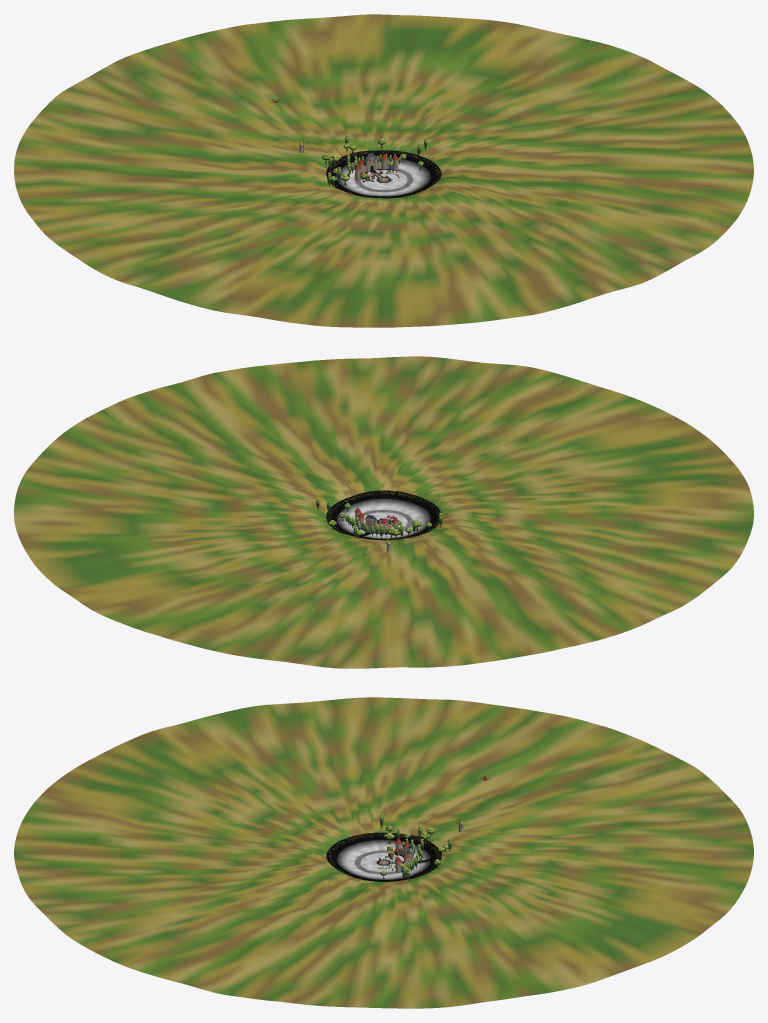
File: era1.glb
The picture shows the model from 3 angles, top to bottom: view 1: azimuth 30°, elevation 25°; view 2: azimuth 150°, elevation 25°; view 3: azimuth 270°, elevation 25°; orthographic projection.
Parts seen in each view (by area): view 1: terrain, grassmap; view 2: terrain, grassmap; view 3: terrain, grassmap.
Part boxes in pixels (<box>): terrain: <box>14,14,753,327</box>; grassmap: <box>326,150,441,198</box>; terrain: <box>14,356,753,668</box>; grassmap: <box>326,490,440,540</box>; terrain: <box>14,697,753,1008</box>; grassmap: <box>326,832,441,881</box>.
Size of the model in its own units: 440 by 37.68 by 440.
